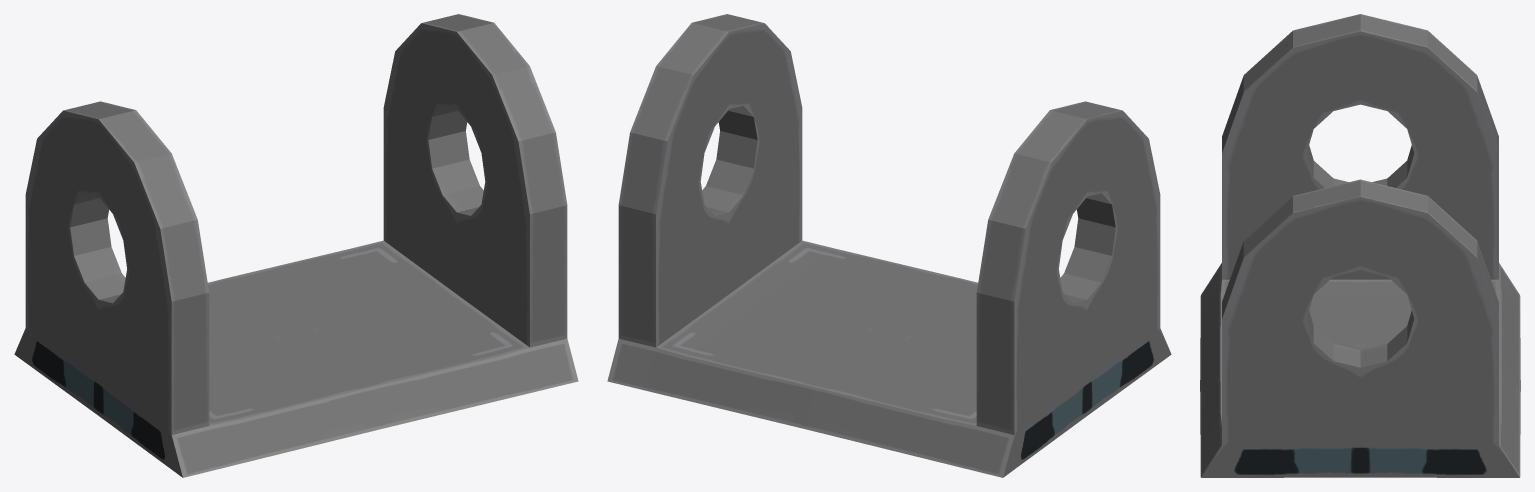
The model's file is HybridHinge0112.fbx.
3 renders of one model, left to right at view 1: azimuth 30°, elevation 25°; view 2: azimuth 150°, elevation 25°; view 3: azimuth 270°, elevation 25°, orthographic. The views are drawn at different scales.
Visible parts, largest first — view 1: HybridHinge011.001; view 2: HybridHinge011.001; view 3: HybridHinge011.001.
Boxes of the visible parts, bbox=[...] form: HybridHinge011.001: bbox=[14, 14, 578, 477]; HybridHinge011.001: bbox=[607, 14, 1171, 477]; HybridHinge011.001: bbox=[1200, 14, 1520, 477].
Bounding box in the file's own units: 96.32 × 69.09 × 71.42.
